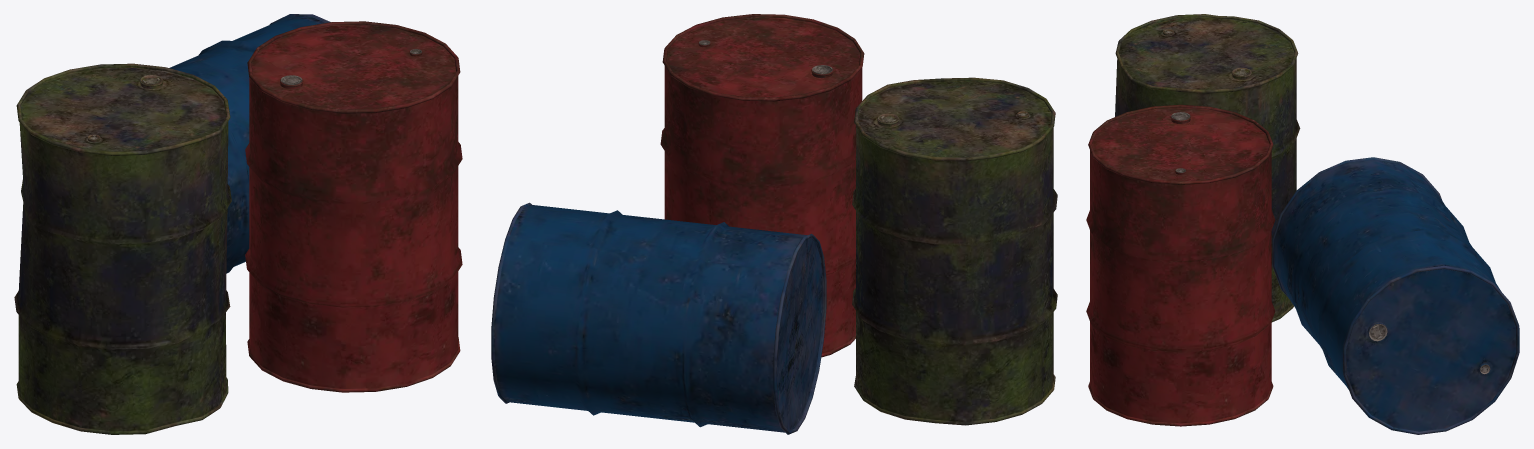
File: p_oil_drums.glb
The picture shows the model from 3 angles, left to right: view 1: azimuth 30°, elevation 25°; view 2: azimuth 150°, elevation 25°; view 3: azimuth 270°, elevation 25°; orthographic projection. The views are drawn at different scales.
Parts seen in each view (by area): view 1: Red_Drum_low, Damaged_Drum_low, Blue_Drum_low; view 2: Damaged_Drum_low, Blue_Drum_low, Red_Drum_low; view 3: Red_Drum_low, Blue_Drum_low, Damaged_Drum_low.
Part boxes in pixels (<box>): Red_Drum_low: <box>245,21,462,392</box>; Damaged_Drum_low: <box>14,63,231,434</box>; Blue_Drum_low: <box>169,14,330,273</box>; Damaged_Drum_low: <box>852,77,1057,425</box>; Blue_Drum_low: <box>491,202,826,434</box>; Red_Drum_low: <box>660,14,864,357</box>; Red_Drum_low: <box>1086,104,1275,426</box>; Blue_Drum_low: <box>1272,157,1519,434</box>; Damaged_Drum_low: <box>1115,14,1300,322</box>.
Size of the model in its own units: 1.81 by 1.08 by 1.73.
Materials: 3 (3 with a texture image).
